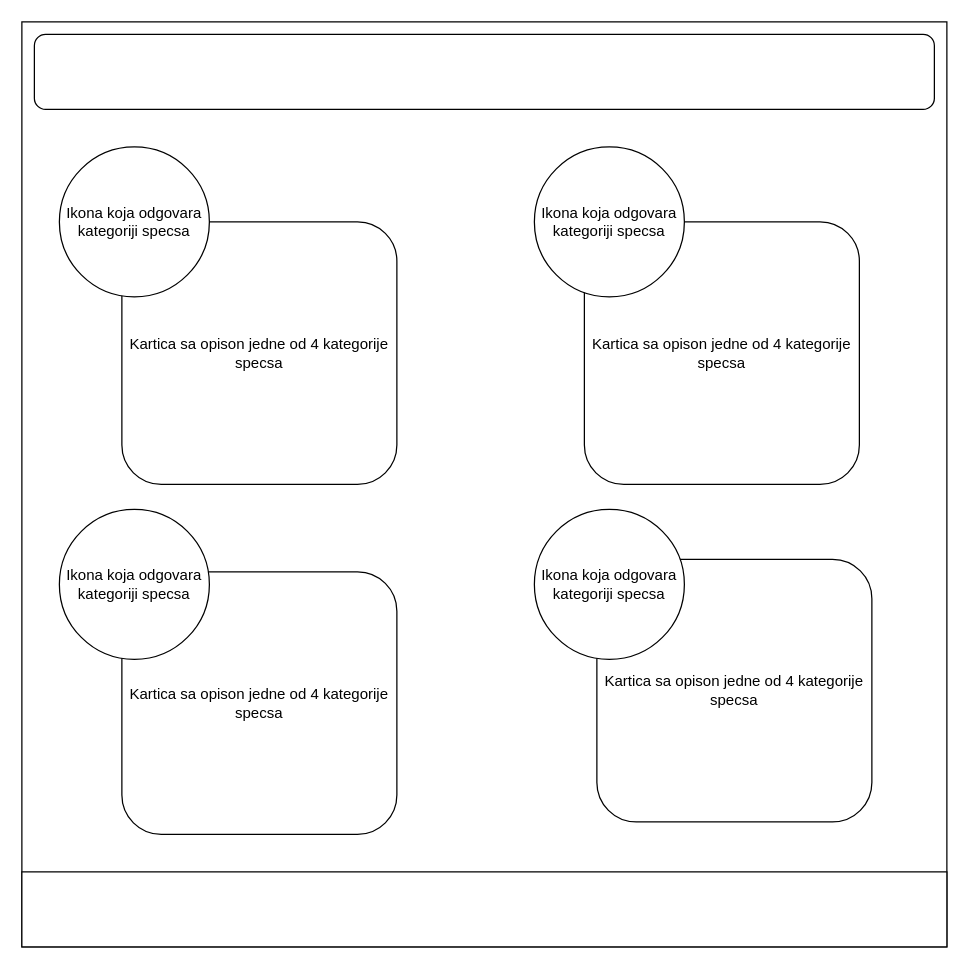
Image size: 969x969. Some labels were removed from this diagram. Here are the shapes that lost their labels. From the top down, the centre of each, then its label:
At (483,71): "Nav bar".
At (484,909): "Footer".
